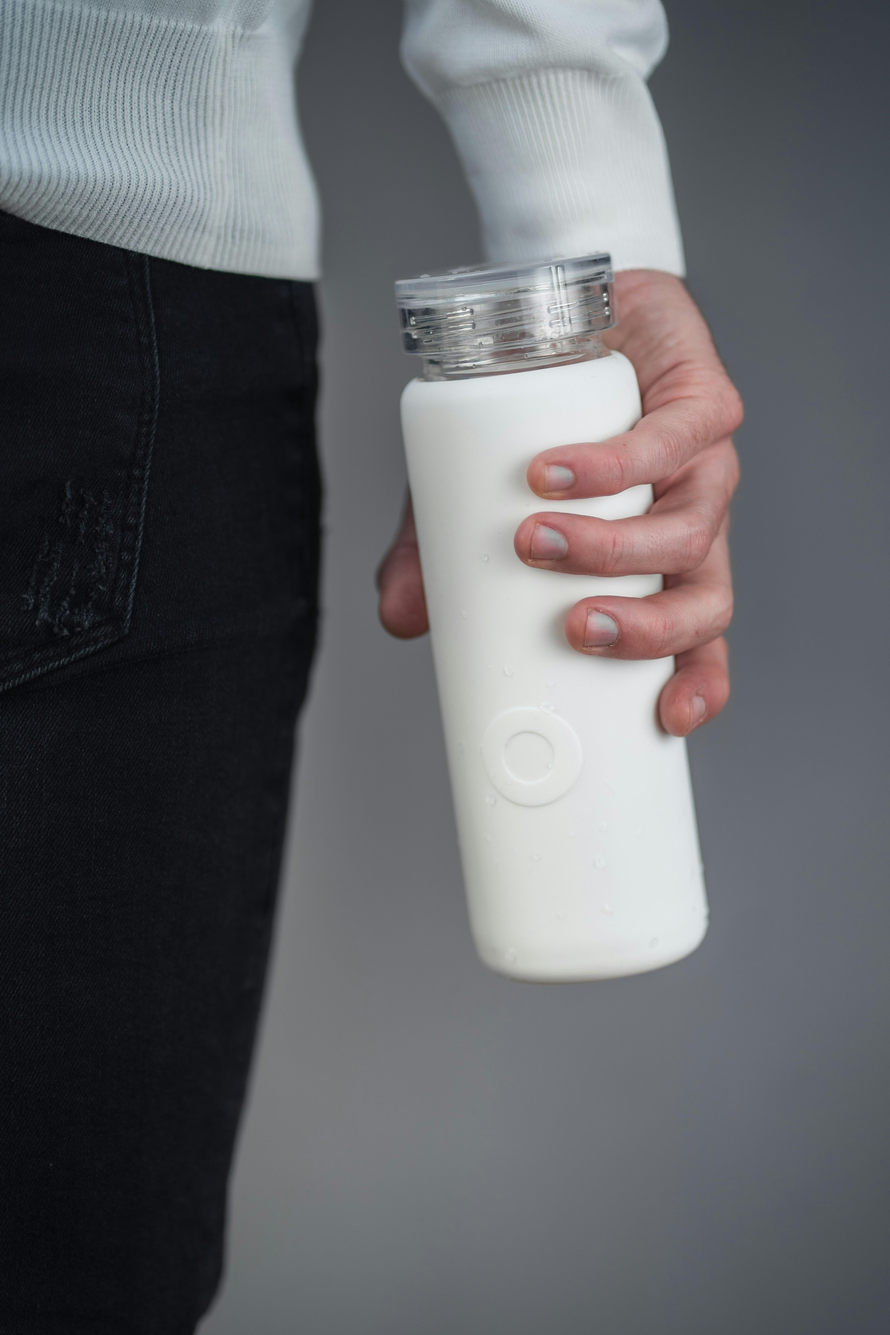Bottle-Detection: (338, 225, 741, 999)
